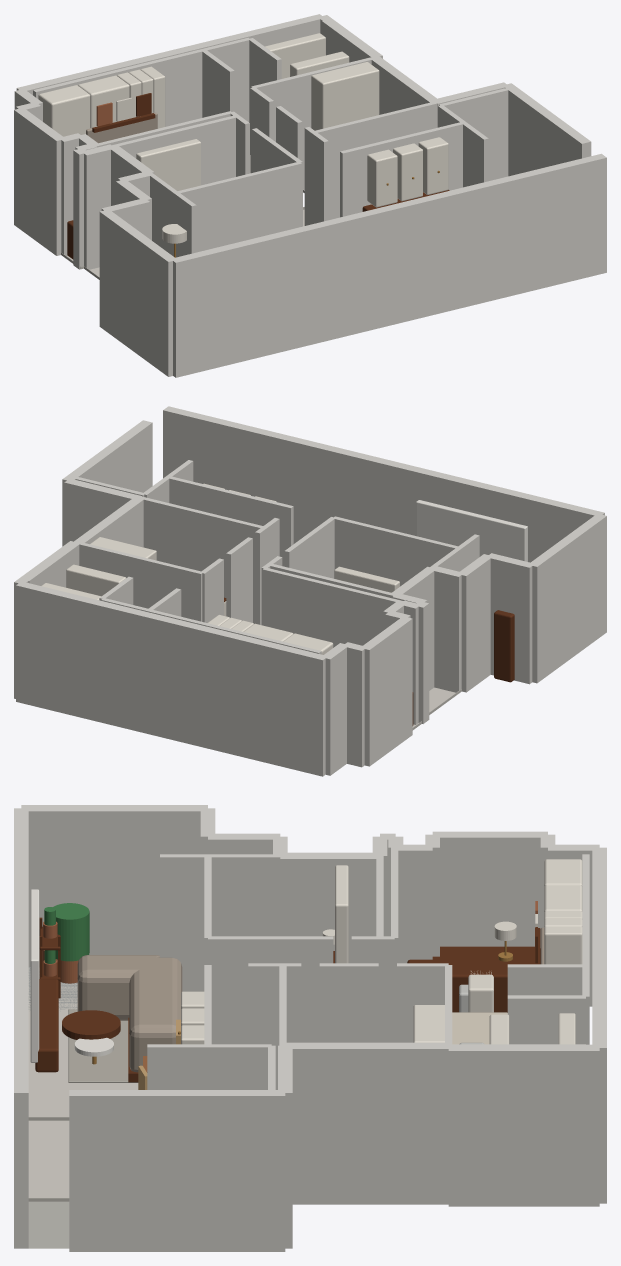
File: house_interior_video_reference_v01.glb
3 renders of one model, top to bottom at view 1: azimuth 30°, elevation 25°; view 2: azimuth 150°, elevation 25°; view 3: azimuth 270°, elevation 25°, orthographic. The views are drawn at different scales.
Parts seen in each view (by area): view 1: WALL_EXT_007, WALL_EXT_008, WALL_INT_015, WALL_EXT_018, WALL_INT_010, WALL_EXT_006, WALL_INT_016, FURN_NORTH_BEDROOM_HEAD_FULLHEIGHT, WALL_INT_019, WALL_INT_013, WALL_INT_021, WALL_EXT_001 (+31 smaller); view 2: WALL_EXT_001, WALL_EXT_007, WALL_EXT_008, WALL_INT_012, WALL_EXT_018, WALL_INT_016, WALL_INT_015, WALL_INT_024, CAB_LIVING_TV_WALL, WALL_EXT_009, WALL_EXT_010, WALL_INT_019 (+25 smaller); view 3: WALL_EXT_006, WALL_EXT_004, WALL_EXT_002, WALL_EXT_008, WALL_INT_014, WALL_EXT_018, WALL_INT_005, WALL_INT_003, WALL_EXT_012, WALL_EXT_007, WALL_INT_017, FURN_LIVING_SOFA (+39 smaller).
Part boxes in pixels (bbox=[...]): WALL_EXT_007: bbox=[171, 153, 606, 377]; WALL_EXT_008: bbox=[99, 209, 177, 376]; WALL_INT_015: bbox=[177, 161, 301, 252]; WALL_EXT_018: bbox=[14, 109, 62, 255]; WALL_INT_010: bbox=[33, 37, 249, 126]; WALL_EXT_006: bbox=[504, 83, 591, 176]; WALL_INT_016: bbox=[313, 102, 437, 219]; FURN_NORTH_BEDROOM_HEAD_FULLHEIGHT: bbox=[311, 62, 379, 130]; WALL_INT_019: bbox=[340, 122, 463, 217]; WALL_INT_013: bbox=[94, 115, 236, 185]; WALL_INT_021: bbox=[439, 87, 512, 180]; WALL_EXT_001: bbox=[16, 14, 324, 94]; WALL_EXT_001: bbox=[16, 581, 327, 776]; WALL_EXT_007: bbox=[163, 406, 604, 562]; WALL_EXT_008: bbox=[528, 514, 606, 683]; WALL_INT_012: bbox=[262, 568, 403, 647]; WALL_EXT_018: bbox=[360, 616, 412, 766]; WALL_INT_016: bbox=[140, 496, 265, 623]; WALL_INT_015: bbox=[333, 516, 458, 586]; WALL_INT_024: bbox=[79, 543, 202, 621]; CAB_LIVING_TV_WALL: bbox=[416, 500, 527, 561]; WALL_EXT_009: bbox=[486, 553, 532, 684]; WALL_EXT_010: bbox=[457, 554, 490, 692]; WALL_INT_019: bbox=[169, 476, 293, 566]; WALL_EXT_006: bbox=[69, 1090, 285, 1251]; WALL_EXT_004: bbox=[285, 1042, 448, 1204]; WALL_EXT_002: bbox=[448, 1044, 599, 1206]; WALL_EXT_008: bbox=[21, 805, 207, 966]; WALL_INT_014: bbox=[160, 854, 378, 991]; WALL_EXT_018: bbox=[432, 831, 547, 947]; WALL_INT_005: bbox=[208, 936, 333, 1044]; WALL_INT_003: bbox=[319, 963, 448, 1042]; WALL_EXT_012: bbox=[280, 852, 379, 963]; WALL_EXT_007: bbox=[14, 808, 28, 1248]; WALL_INT_017: bbox=[147, 1044, 271, 1089]; FURN_LIVING_SOFA: bbox=[129, 957, 182, 1072].
Size of the model in its own units: 11.22 by 2.8 by 9.66.
